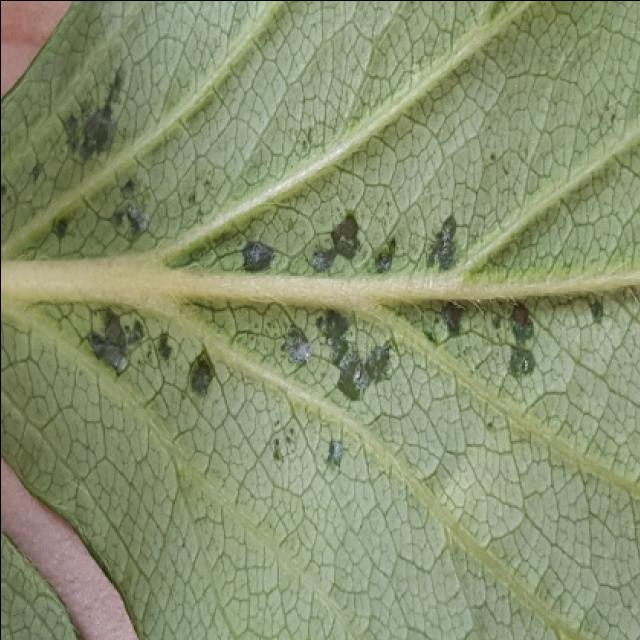Angular Leafspot: (0, 53, 626, 479)
